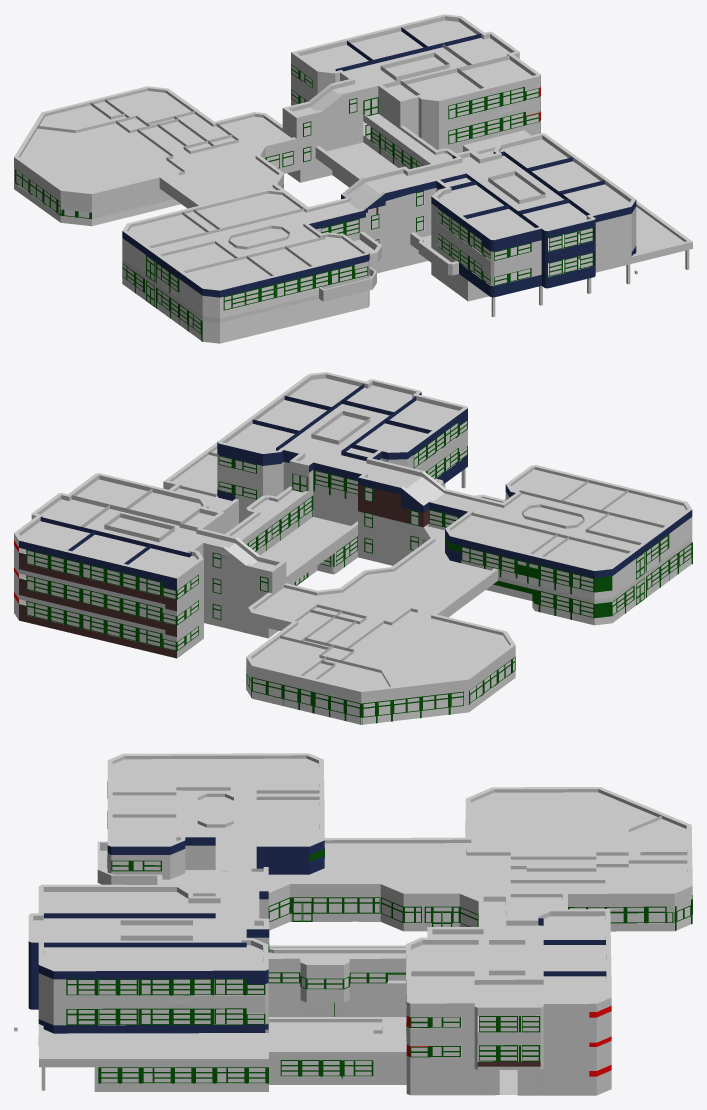
The model's file is SchuleMain.fbx.
3 renders of one model, top to bottom at view 1: azimuth 30°, elevation 25°; view 2: azimuth 150°, elevation 25°; view 3: azimuth 270°, elevation 25°, orthographic. The views are drawn at different scales.
Visible parts, largest first — view 1: Cube; view 2: Cube; view 3: Cube, Triple triple + Big.016, Triple triple + Big.017, Triple triple + Big.018, Triple triple + Big.019, Triple triple + Big.020, Triple triple + Big.038.
Part boxes in pixels (bbox=[...]): Cube: bbox=[14, 14, 692, 343]; Cube: bbox=[14, 372, 692, 724]; Cube: bbox=[28, 753, 692, 1095]; Triple triple + Big.016: bbox=[66, 1009, 96, 1025]; Triple triple + Big.017: bbox=[140, 1008, 170, 1024]; Triple triple + Big.018: bbox=[214, 1008, 244, 1024]; Triple triple + Big.019: bbox=[66, 979, 96, 995]; Triple triple + Big.020: bbox=[140, 979, 170, 995]; Triple triple + Big.038: bbox=[343, 1060, 373, 1076].
Bounding box in the file's own units: 7040 × 1123 × 7511.
